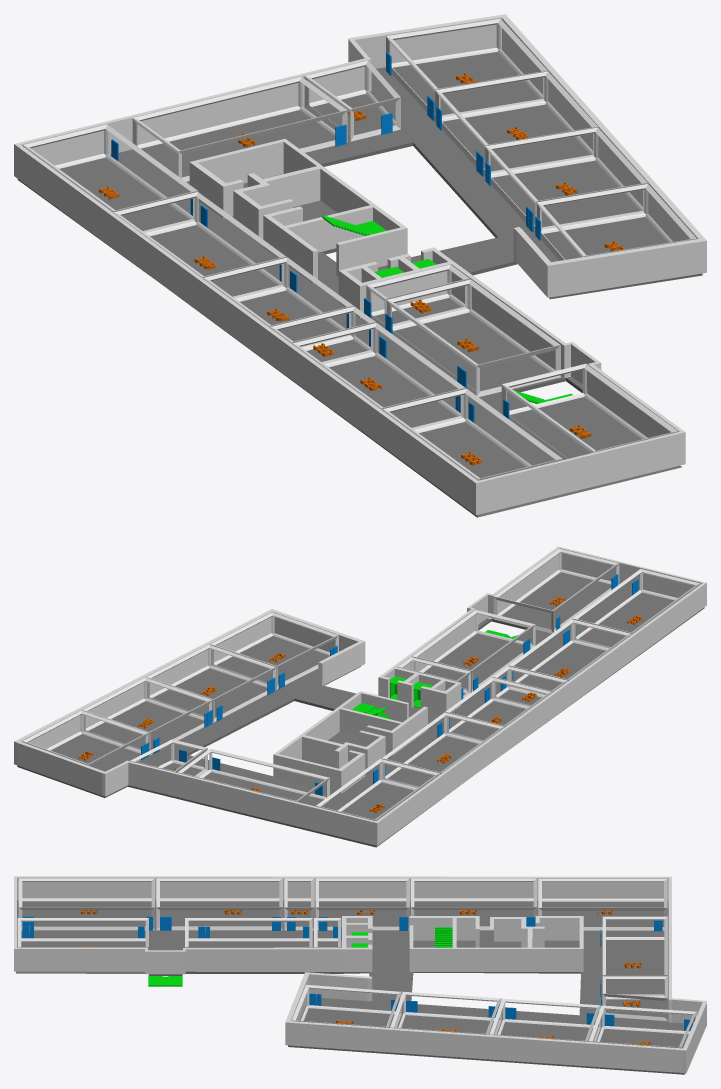
The picture shows the model from 3 angles, top to bottom: view 1: azimuth 30°, elevation 25°; view 2: azimuth 150°, elevation 25°; view 3: azimuth 270°, elevation 25°; orthographic projection. The views are drawn at different scales.
Visible parts, largest first — view 1: Wall.003, Floor.003, B102.028, B102.031, B102.034, B102.035, B102.036, B102.032, B102.022, B102.026, B102.024, B102.037 (+5 smaller); view 2: Wall.003, Floor.003, B102.032, B102.034, B102.037, B102.035, B102.031, B102.028, B102.027, B102.024, B102.036, B102.026 (+5 smaller); view 3: Wall.003, Floor.003, B102.027, B102.022, B102.026, B102.024, B102.023, B102.032, B102.034, B102.035, B102.037, B102.031 (+7 smaller).
Boxes of the visible parts, x1,y1,x2,y2 form: Wall.003: (14,14,706,515); Floor.003: (17,51,702,517); B102.028: (132,76,347,183); B102.031: (386,279,560,396); B102.034: (485,127,648,232); B102.035: (435,71,598,176); B102.036: (386,18,548,120); B102.032: (501,363,678,459); B102.022: (23,124,198,232); B102.026: (292,323,465,429); B102.024: (113,192,286,298); B102.037: (536,184,696,260); Wall.003: (14,546,706,845); Floor.003: (17,572,704,847); B102.032: (493,548,619,633); B102.034: (146,644,276,722); B102.037: (210,612,338,689); B102.035: (82,677,212,755); B102.031: (412,610,535,692); B102.028: (177,748,329,806); B102.027: (572,569,700,648); B102.024: (381,712,504,787); B102.036: (22,710,148,766); B102.026: (508,619,631,694); Wall.003: (14,876,706,1073); Floor.003: (16,900,693,1074); B102.027: (18,878,154,930); B102.022: (538,878,667,930); B102.026: (156,878,282,930); B102.024: (411,878,537,930); B102.023: (315,878,409,930); B102.032: (17,918,148,950); B102.034: (390,991,501,1034); B102.035: (489,998,600,1041); B102.037: (291,984,401,1027); B102.031: (185,918,312,947).
Bounding box in the file's own units: 2.3 × 0.3118 × 3.87.
